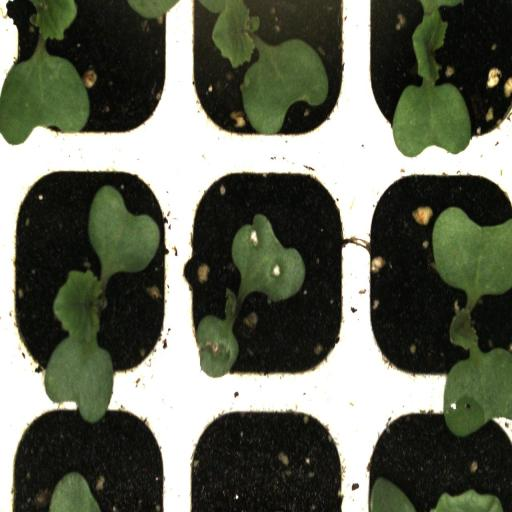Folha: (0, 0, 90, 145)
Germinacao: (178, 157, 356, 391), (8, 160, 176, 392), (357, 156, 512, 392), (177, 0, 355, 153), (357, 0, 512, 155)
